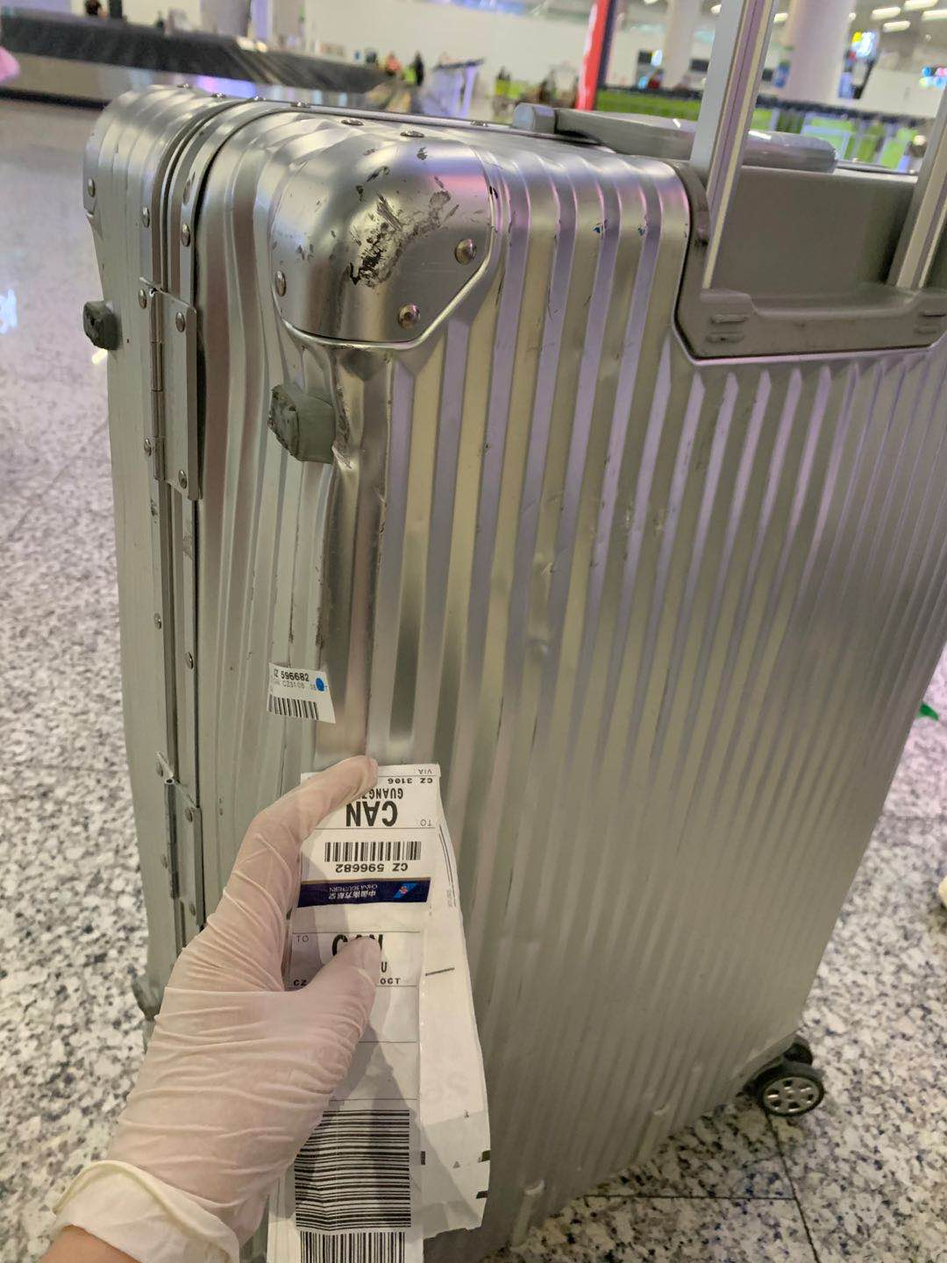rupture: (189, 211, 299, 769)
